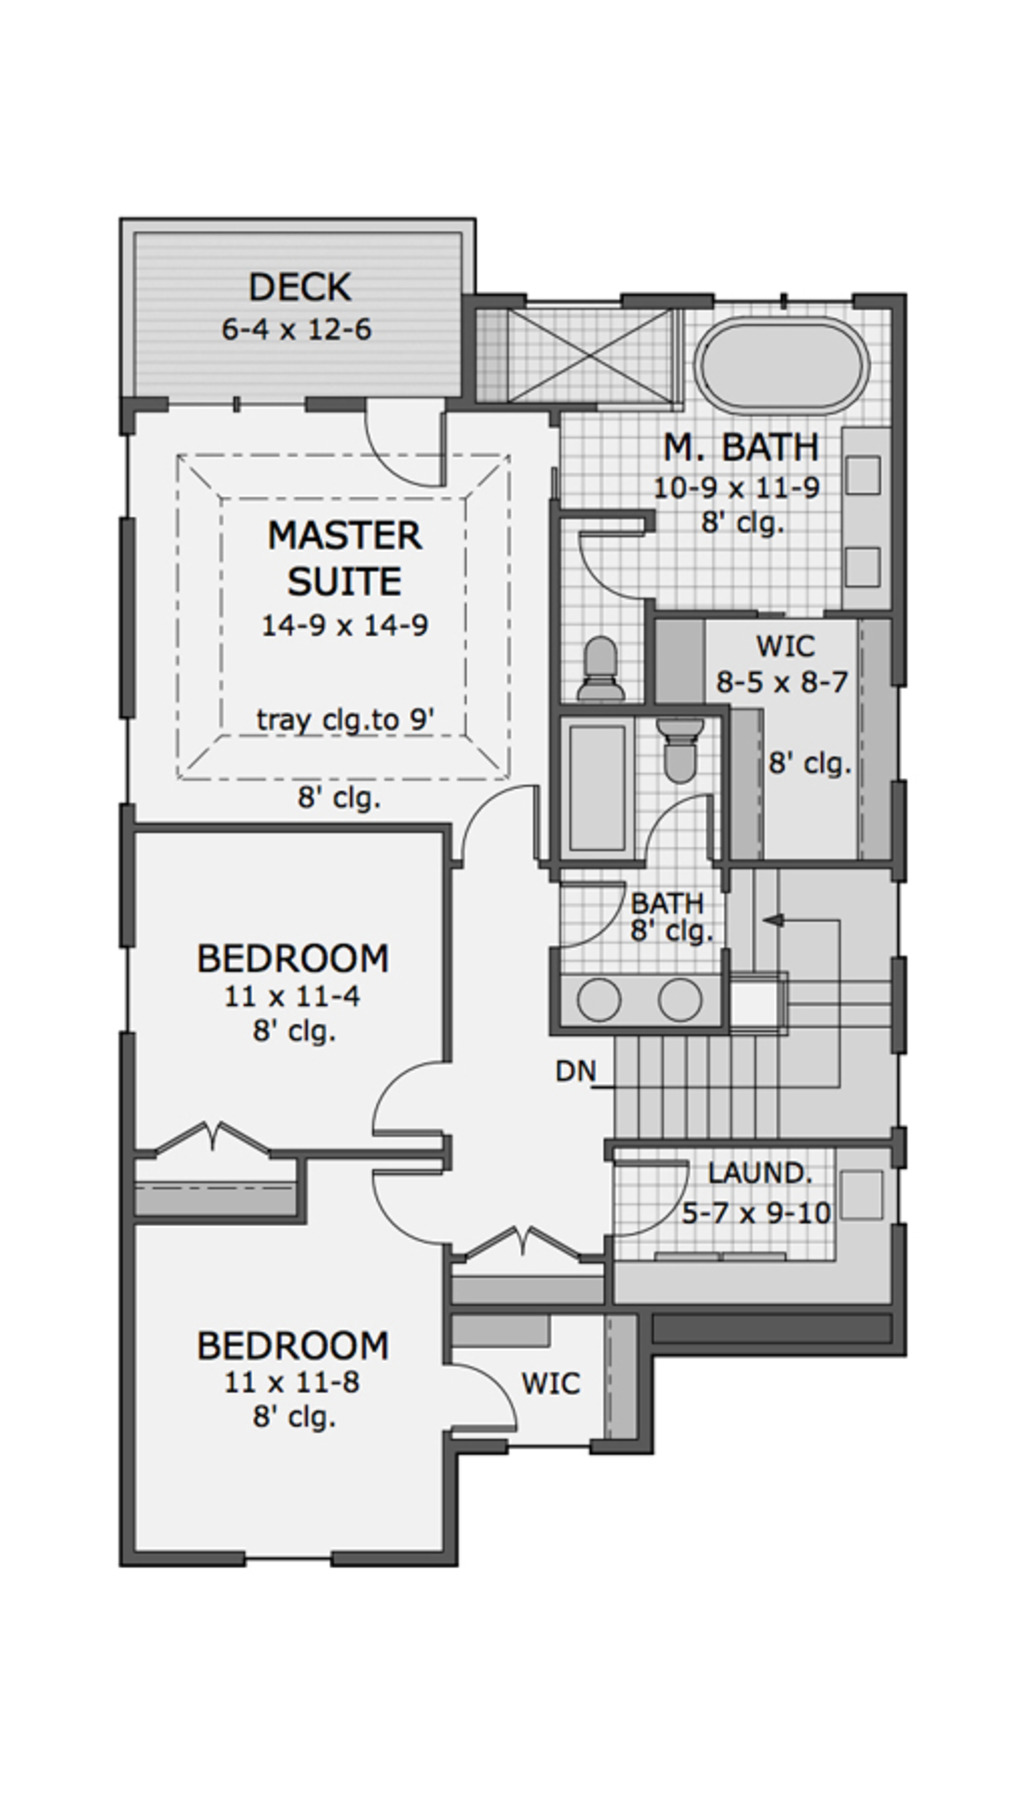door: (435, 1210, 605, 1294), (342, 393, 485, 490), (445, 756, 556, 876), (350, 1036, 465, 1142), (630, 782, 748, 873), (153, 1093, 282, 1173), (539, 864, 653, 953), (365, 1151, 455, 1256), (574, 499, 664, 604), (439, 1362, 525, 1437)
large_sink: (552, 619, 642, 705), (645, 708, 728, 790)
small_sink: (547, 956, 745, 1034), (832, 437, 893, 602)
stairs: (610, 864, 893, 1133)
tub: (664, 296, 888, 415)
window: (100, 702, 170, 810), (473, 1408, 596, 1465), (109, 405, 168, 522), (108, 939, 165, 1056), (225, 1530, 348, 1576), (878, 1153, 929, 1239)
